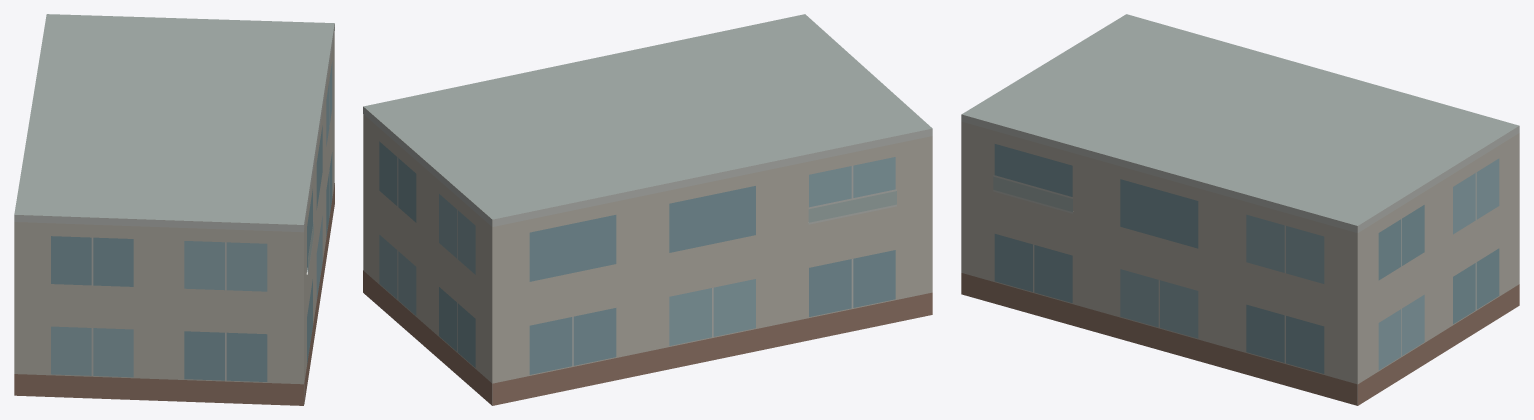
File: survey-upis-32930640.glb
3 renders of one model, left to right at view 1: azimuth 30°, elevation 25°; view 2: azimuth 150°, elevation 25°; view 3: azimuth 270°, elevation 25°, orthographic. The views are drawn at different scales.
Parts seen in each view (by area): view 1: survey-upis-32930640.tmp; view 2: survey-upis-32930640.tmp; view 3: survey-upis-32930640.tmp.
Boxes of the visible parts, x1,y1,x2,y2 form: survey-upis-32930640.tmp: [14, 14, 334, 405]; survey-upis-32930640.tmp: [363, 14, 932, 405]; survey-upis-32930640.tmp: [961, 14, 1519, 405].
Bounding box in the file's own units: 15.43 × 6.1 × 17.16.
